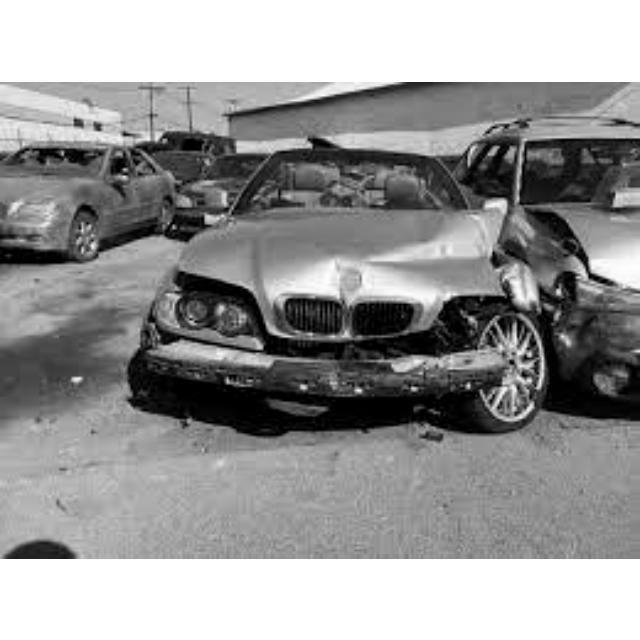bonnet-dent: (185, 215, 497, 311)
front-bumper-dent: (148, 296, 517, 399)
